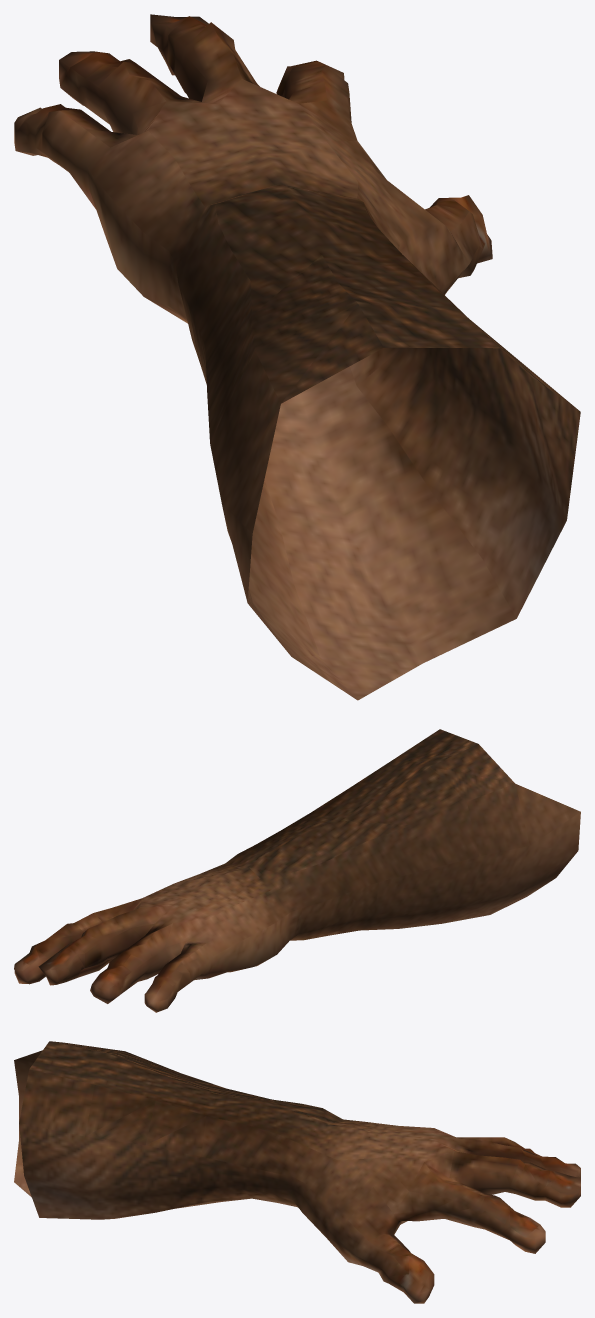
File: meganthropus-tangan.glb
3 views of the same model, one above another, from view 1: azimuth 30°, elevation 25°; view 2: azimuth 150°, elevation 25°; view 3: azimuth 270°, elevation 25° (orthographic). The views are drawn at different scales.
Visible parts, largest first — view 1: meganthrops-tangan; view 2: meganthrops-tangan; view 3: meganthrops-tangan.
Part boxes in pixels (box(x1,y1,x2,y2)): meganthrops-tangan: box(14, 14, 580, 700); meganthrops-tangan: box(14, 729, 580, 1012); meganthrops-tangan: box(14, 1041, 580, 1303).
Size of the model in its own units: 0.1445 by 0.0703 by 0.2188.
Materials: 1 (1 with a texture image).
